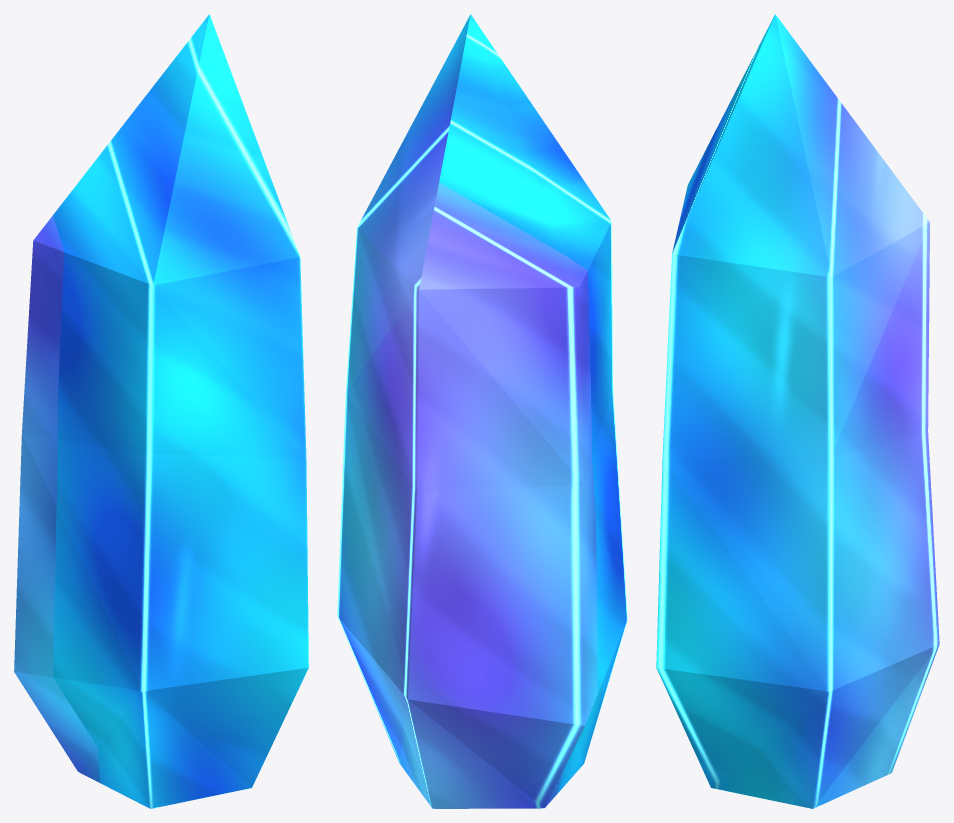
Rendered from forest_crystal_blue.glb.
The picture shows the model from 3 angles, left to right: view 1: azimuth 30°, elevation 25°; view 2: azimuth 150°, elevation 25°; view 3: azimuth 270°, elevation 25°; orthographic projection. The views are drawn at different scales.
Parts seen in each view (by area): view 1: Faceted magical crystal; view 2: Faceted magical crystal; view 3: Faceted magical crystal.
Boxes of the visible parts, x1,y1,x2,y2 form: Faceted magical crystal: (14, 14, 308, 808); Faceted magical crystal: (337, 14, 627, 808); Faceted magical crystal: (656, 14, 939, 808).
Bounding box in the file's own units: 0.5983 × 1.64 × 0.548.
3 materials, 3 textured.
